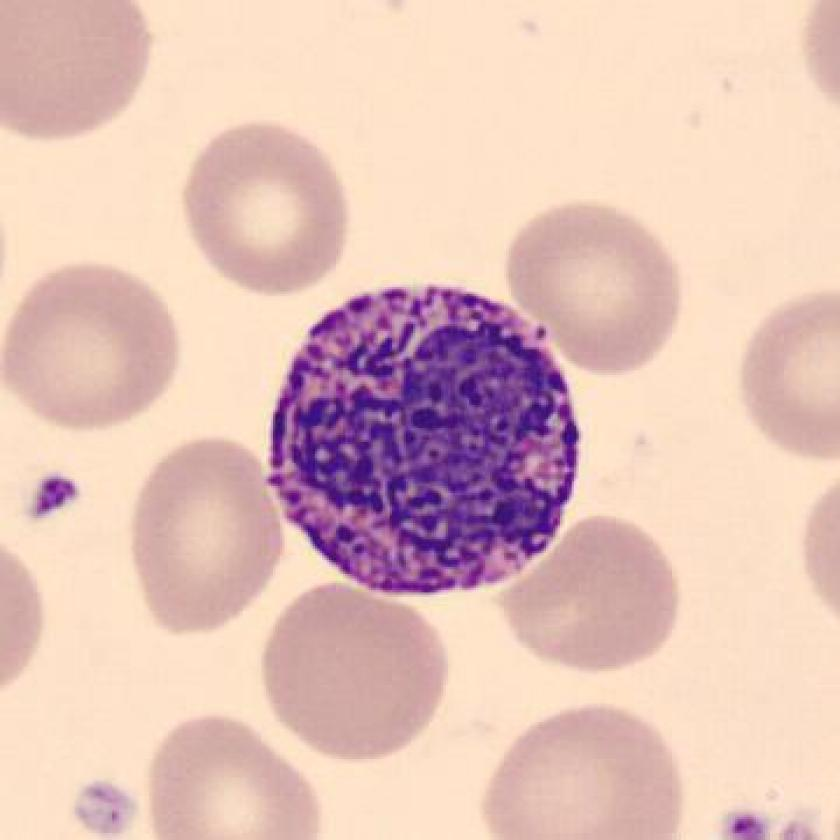basophil: (260, 274, 589, 605)
